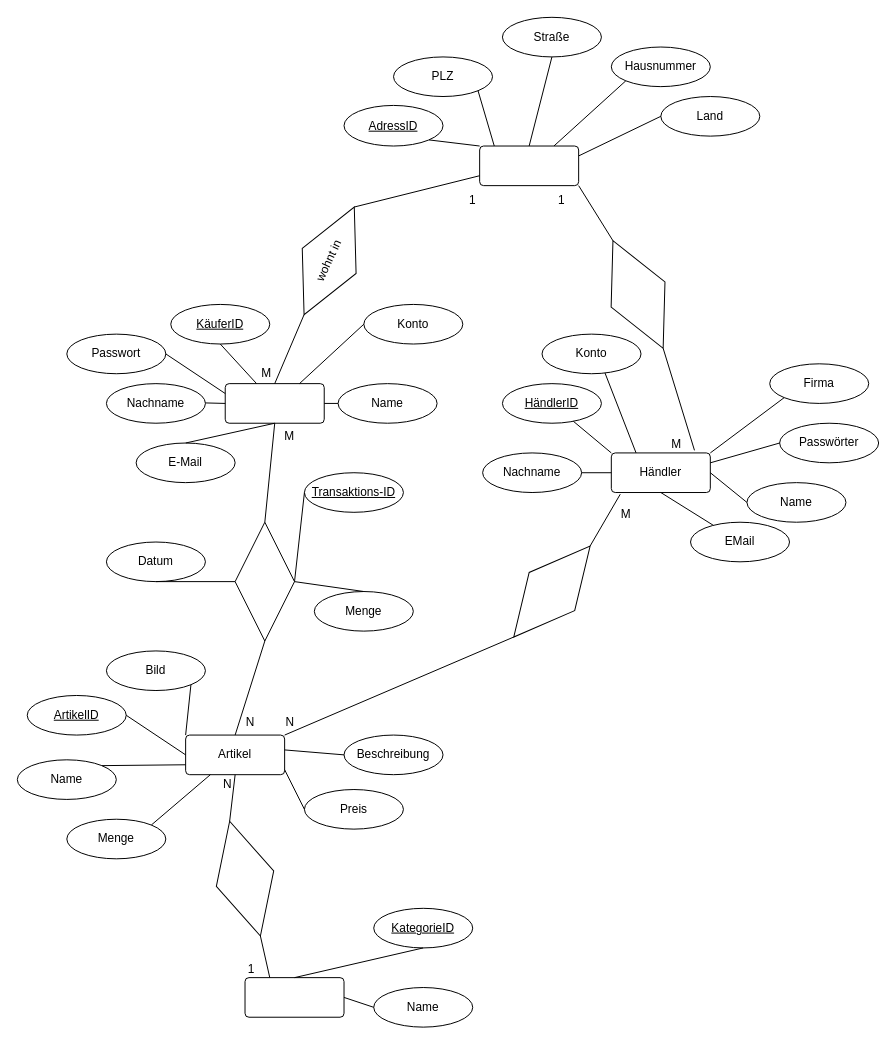
The diagram is 896 pixels wide and 1044 high, and some of its shapes have lost their labels. The shapes that lost their labels are listed below. From the top down, each one's box as (x1, y1, x2, y2) in pixels, then its label:
(479, 145, 579, 186): Adresse
(585, 227, 690, 361): hat Sitz in
(224, 383, 324, 423): Käufer
(234, 521, 295, 641): kauft
(490, 526, 613, 656): verkauft
(200, 812, 289, 944): ist in
(244, 977, 344, 1017): Kategorie
